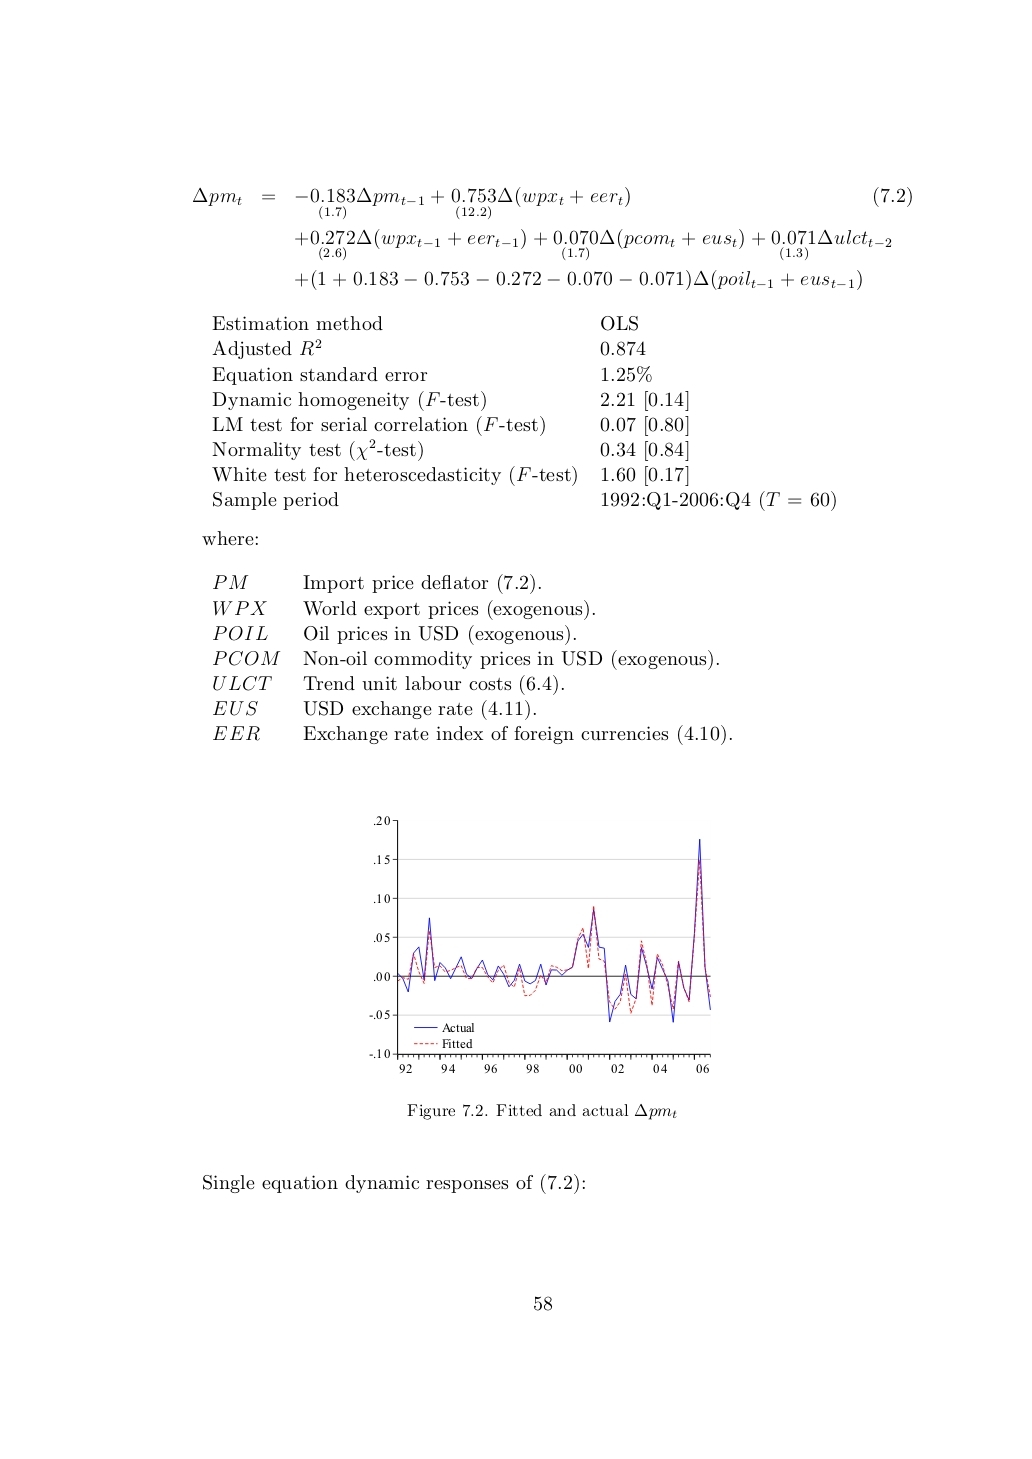Table: (212, 316, 835, 510)
figure: (369, 816, 710, 1073)
formula: (193, 186, 911, 220), (295, 228, 891, 261), (295, 269, 861, 290)
